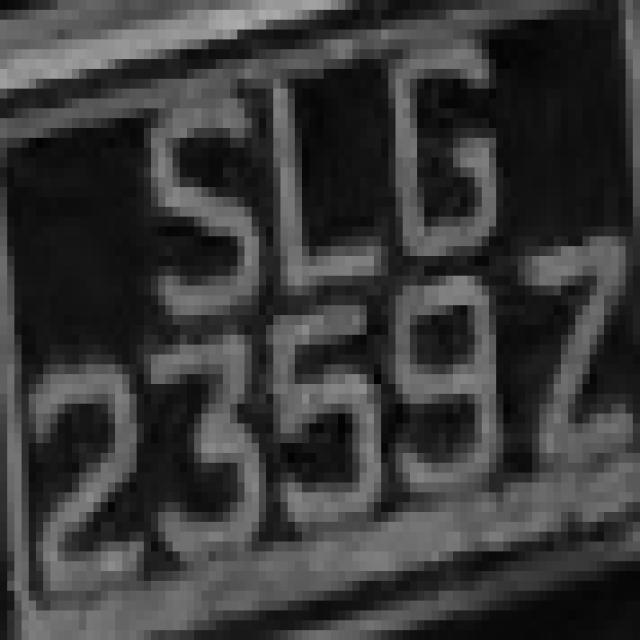2: (8, 345, 166, 620)
3: (137, 305, 280, 601)
5: (238, 276, 396, 561)
9: (374, 266, 503, 541)
G: (374, 20, 518, 295)
L: (237, 59, 381, 315)
S: (115, 79, 259, 364)
Z: (496, 206, 640, 532)
